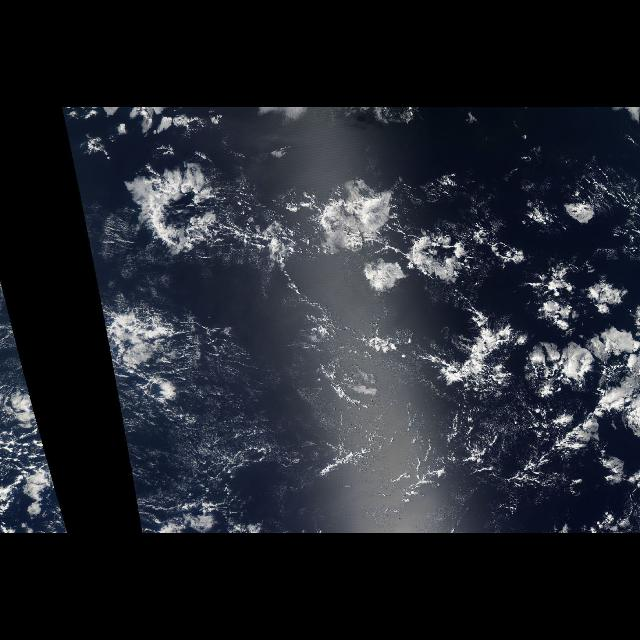Flower: (110, 147, 638, 495)
Sugar: (128, 346, 526, 504)
